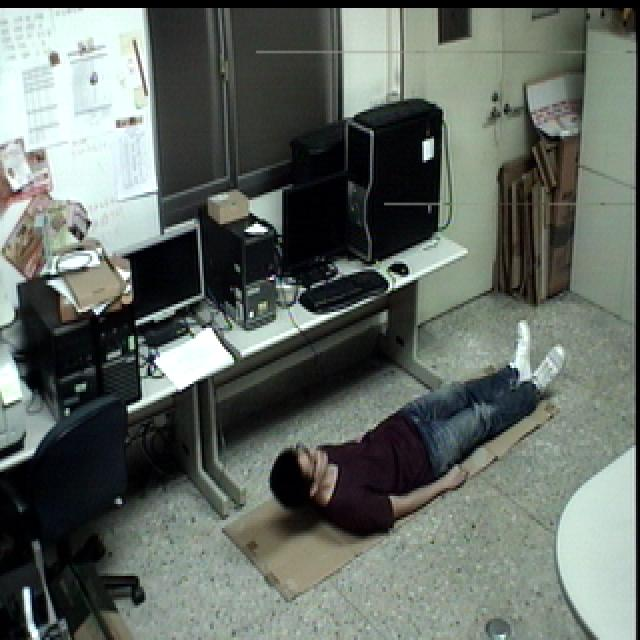lie: (259, 314, 579, 549)
